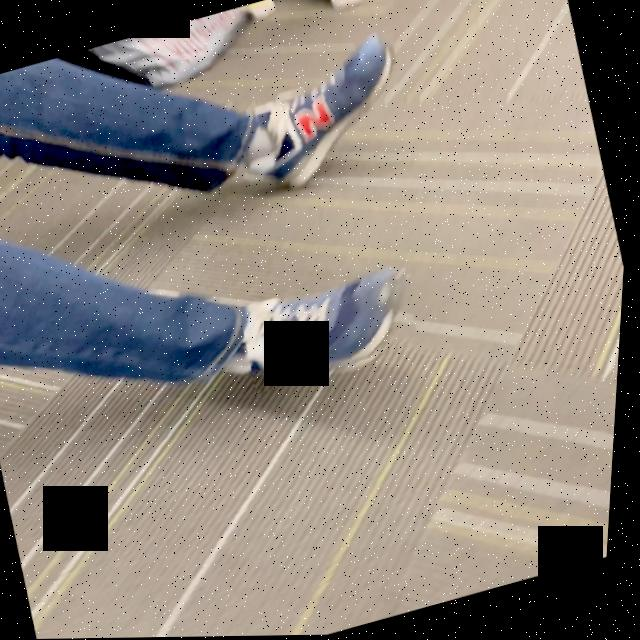shoe: (248, 35, 393, 190), (251, 271, 411, 380)
